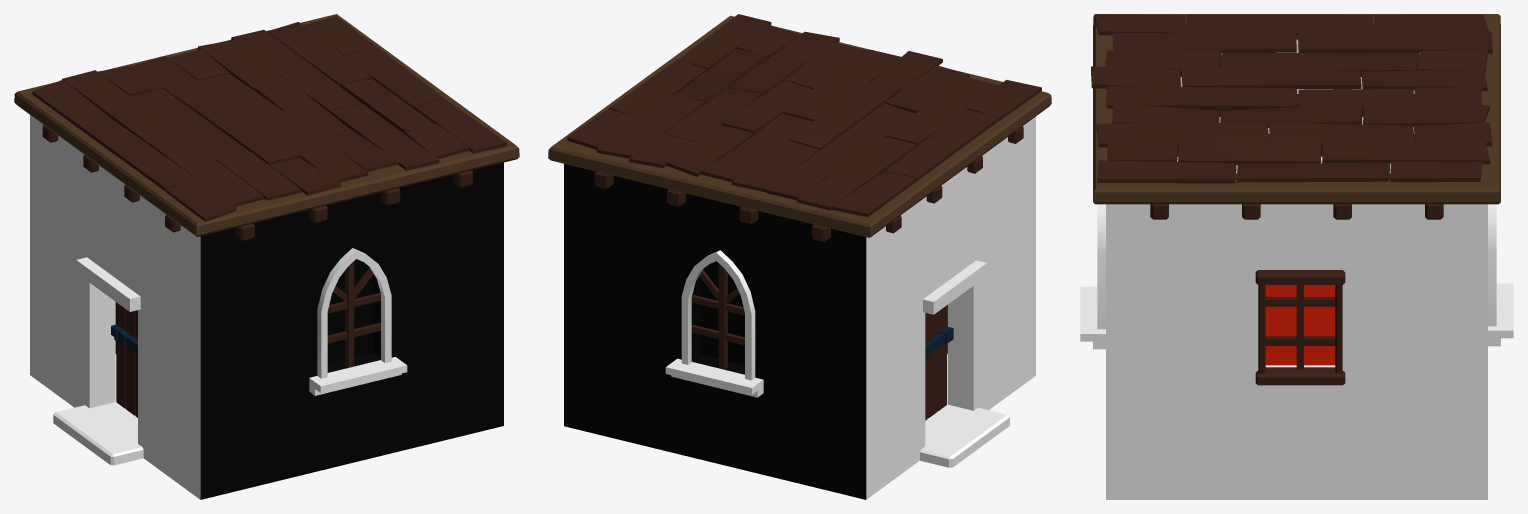
File: civilian_house_35_a.FBX
3 renders of one model, left to right at view 1: azimuth 30°, elevation 25°; view 2: azimuth 150°, elevation 25°; view 3: azimuth 270°, elevation 25°, orthographic. The views are drawn at different scales.
Visible parts, largest first — view 1: civilian_house_35_a; view 2: civilian_house_35_a; view 3: civilian_house_35_a.
Part boxes in pixels (x1,y1,x2,y2): civilian_house_35_a: (14, 14, 519, 499); civilian_house_35_a: (548, 14, 1051, 499); civilian_house_35_a: (1080, 14, 1513, 499).
Size of the model in its own units: 526 by 420 by 511.
